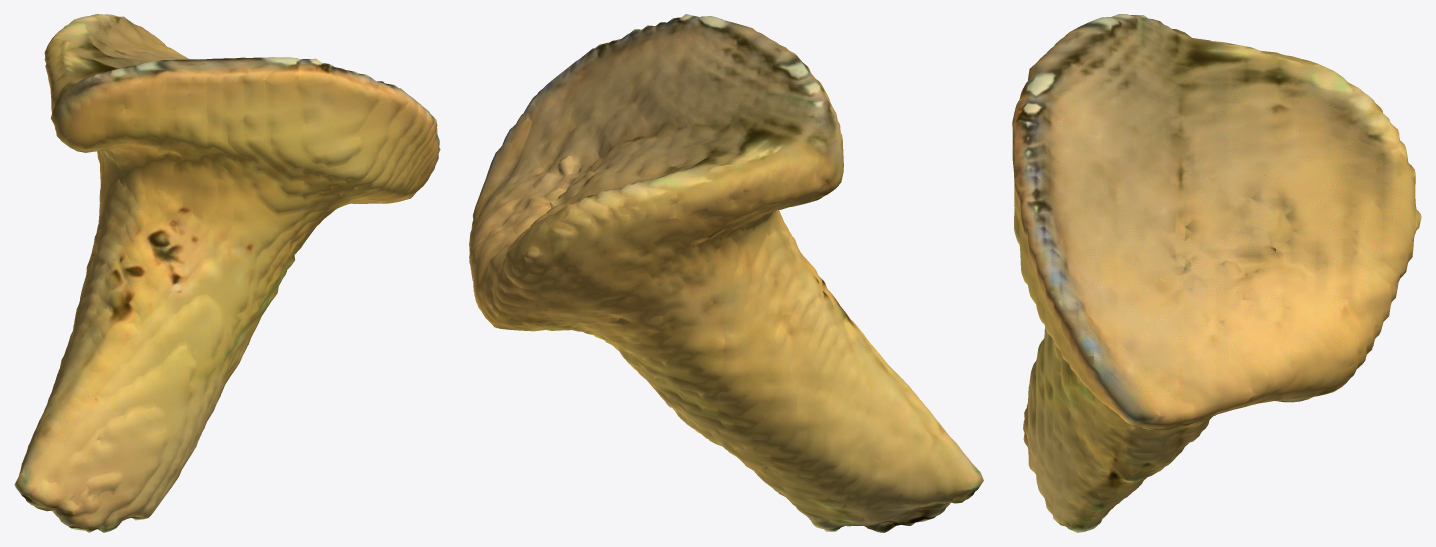
The model's file is cantharellus-cibarius.glb.
The picture shows the model from 3 angles, left to right: view 1: azimuth 30°, elevation 25°; view 2: azimuth 150°, elevation 25°; view 3: azimuth 270°, elevation 25°; orthographic projection. The views are drawn at different scales.
Size of the model in its own units: 0.9994 by 0.9612 by 0.6779.
Materials: 1 (1 with a texture image).
